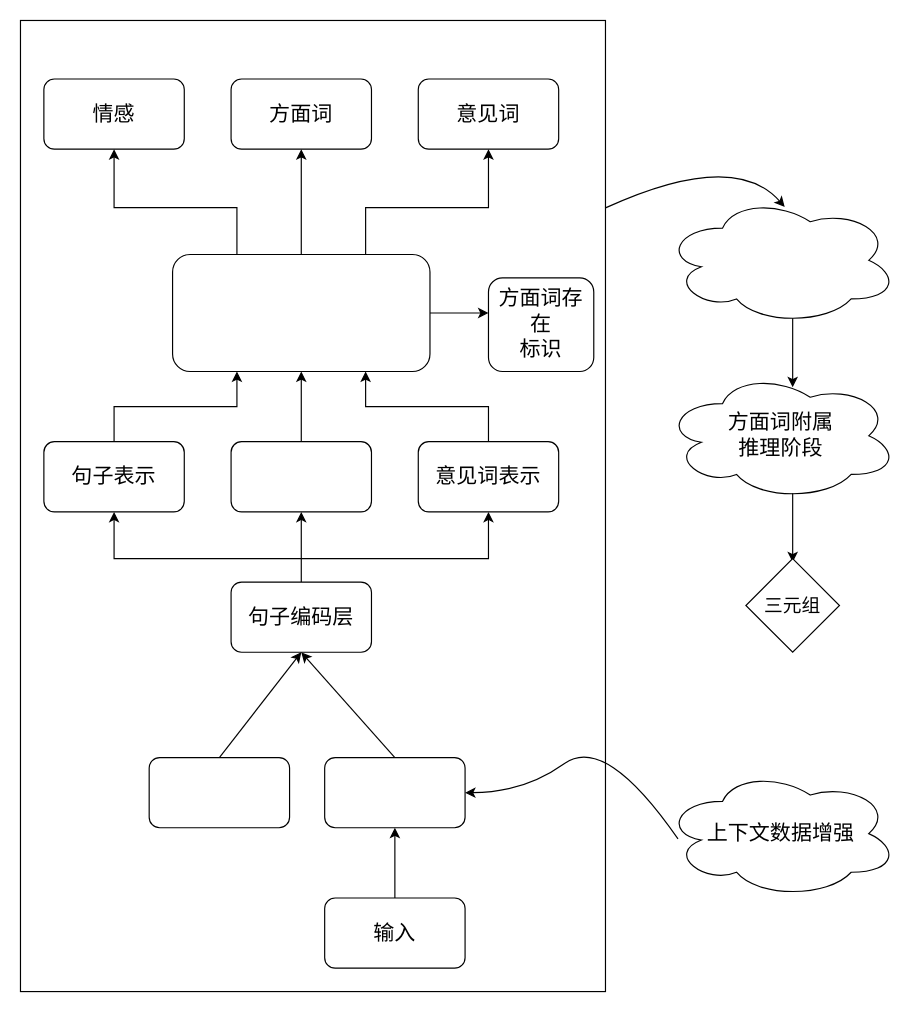
Some shapes in this 918 by 1012 pixel diagram are drawn without their labels. Each missing label, with the centre of its shape:
"上下文" goes at pixel 394 792.
"多头注意力等 神经网络" goes at pixel 300 312.
"方面词推理阶段" goes at pixel 780 260.
"方面词表示" goes at pixel 300 476.
"查询" goes at pixel 219 792.
